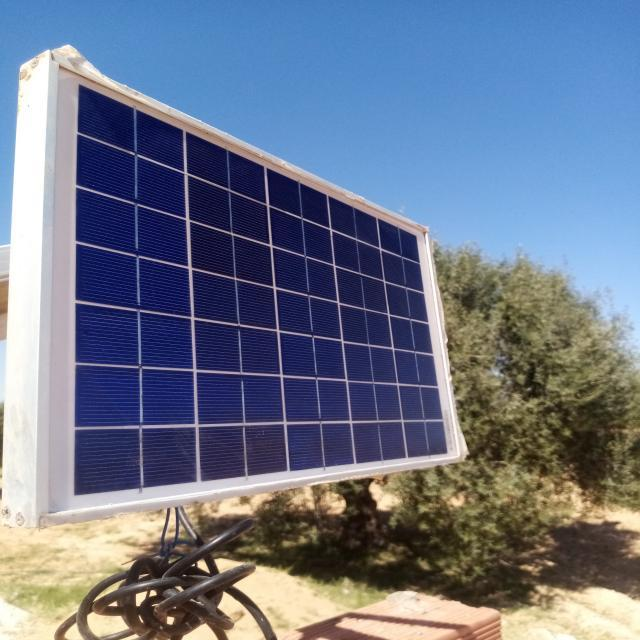no faulty: (38, 57, 464, 525)
